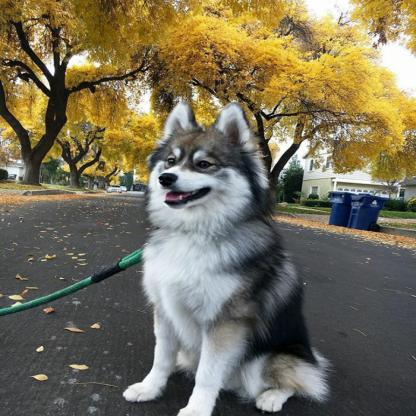husky: (121, 107, 333, 416)
